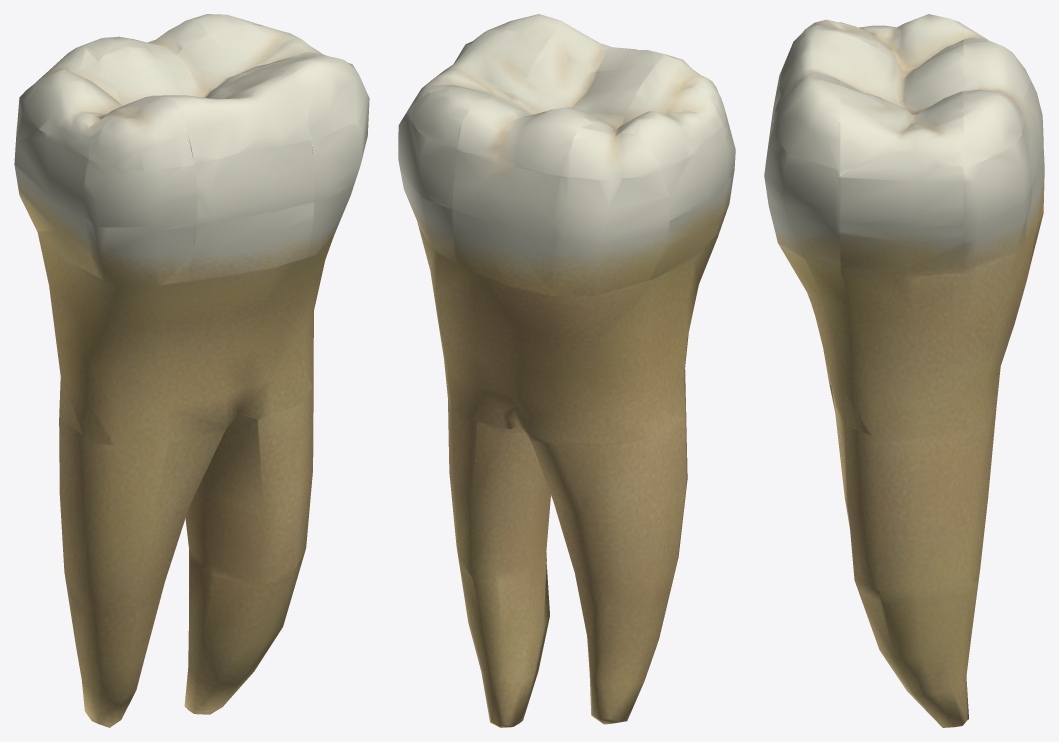
Rendered from Right_Lower_Second_Molar.glb.
3 renders of one model, left to right at view 1: azimuth 30°, elevation 25°; view 2: azimuth 150°, elevation 25°; view 3: azimuth 270°, elevation 25°, orthographic. The views are drawn at different scales.
Visible parts, largest first — view 1: Human_Teeth_Lower_Second_Molar_Geo; view 2: Human_Teeth_Lower_Second_Molar_Geo; view 3: Human_Teeth_Lower_Second_Molar_Geo.
Part boxes in pixels (x1,y1,x2,y2): Human_Teeth_Lower_Second_Molar_Geo: [14, 14, 369, 727]; Human_Teeth_Lower_Second_Molar_Geo: [398, 14, 735, 727]; Human_Teeth_Lower_Second_Molar_Geo: [764, 14, 1044, 727].
Bounding box in the file's own units: 1.4 × 3.14 × 1.21.
30 materials, 30 textured.
